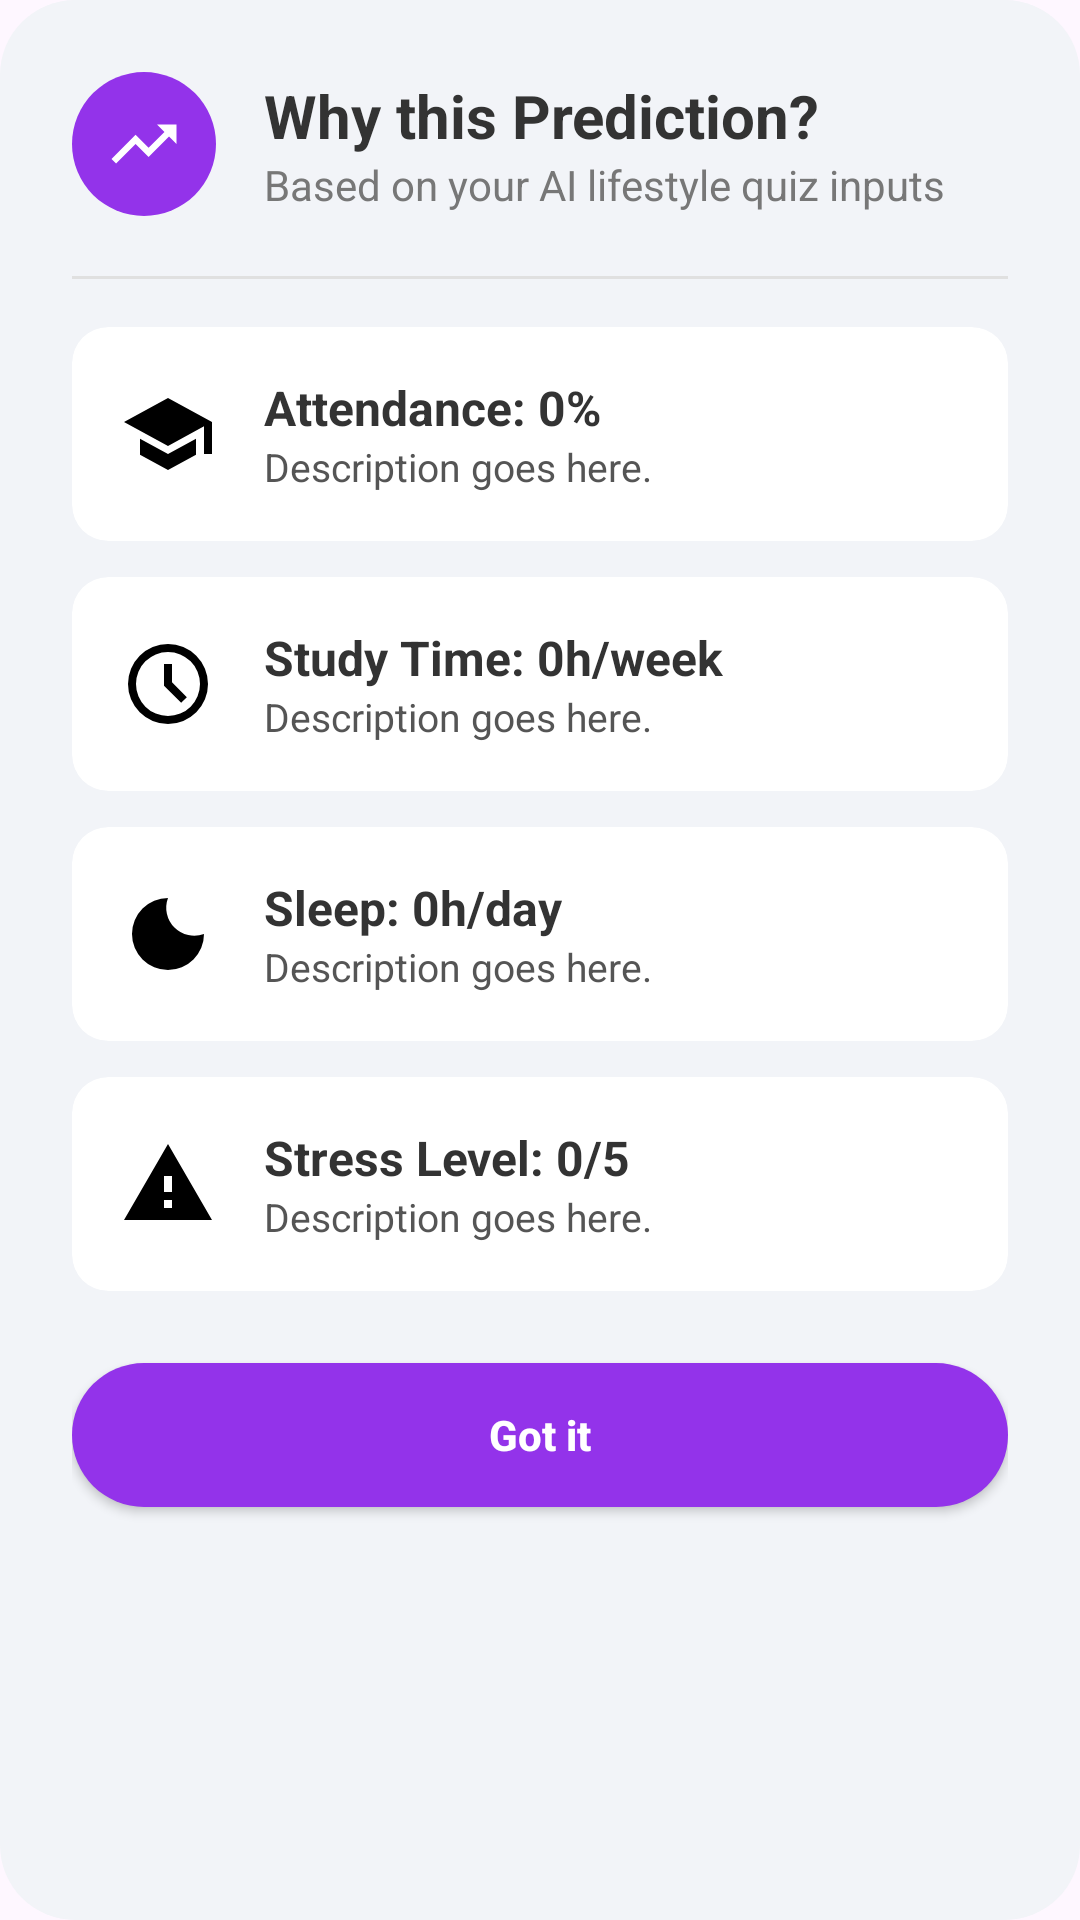

Where icons sit on this 1080 × 1920 app screen, as (x1, y1, x2, y2):
academic cap: (124, 398, 212, 470)
clock: (128, 644, 208, 724)
moon: (132, 898, 204, 970)
trending up: (112, 124, 177, 164)
warning: (124, 1144, 212, 1220)
